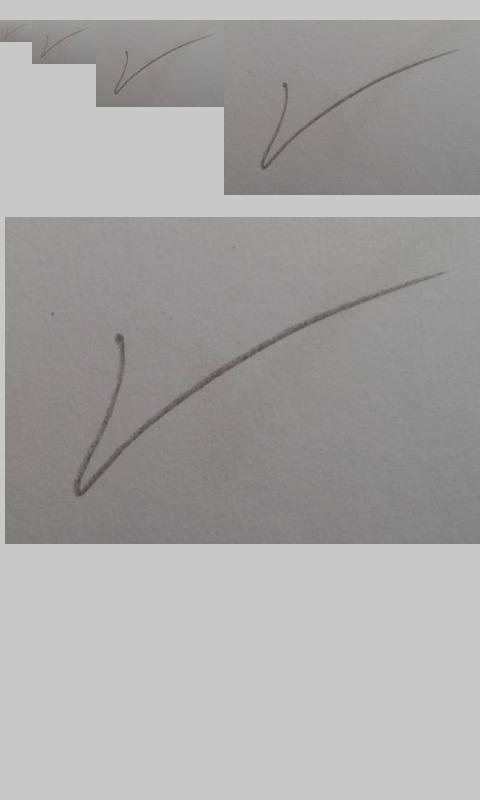check_box: (74, 286, 390, 496), (259, 52, 447, 170), (113, 35, 208, 95), (40, 28, 89, 58), (4, 24, 25, 40)
